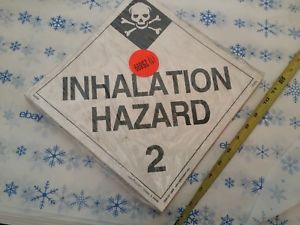InhalationHazard: (36, 1, 253, 199)
